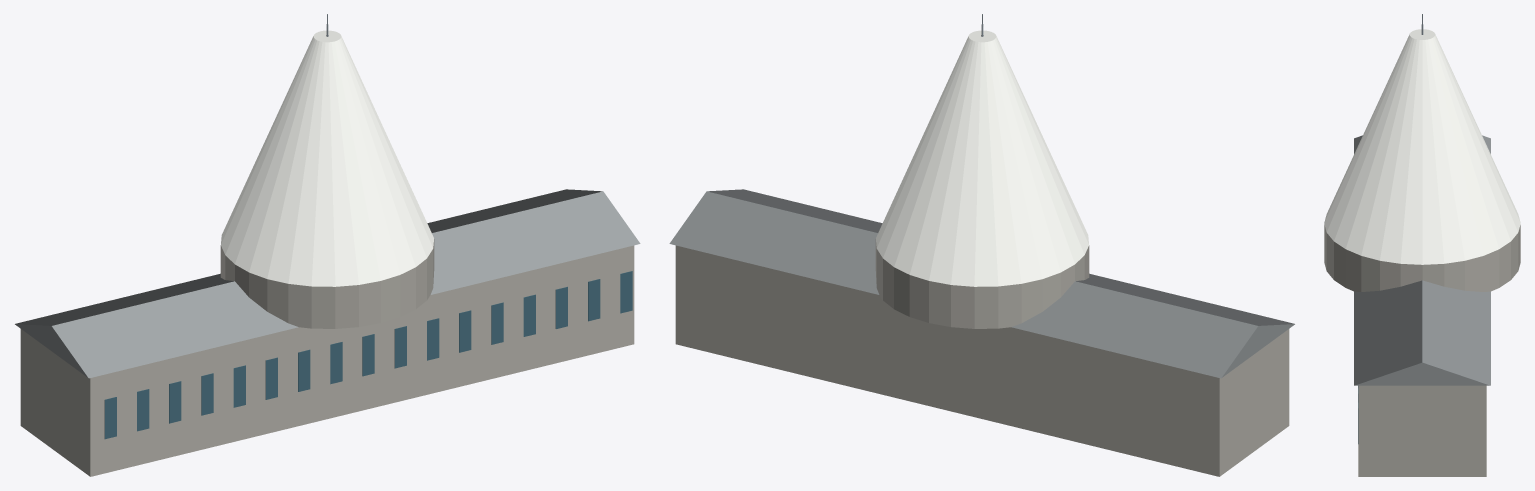
The model's file is source.glb.
3 renders of one model, left to right at view 1: azimuth 30°, elevation 25°; view 2: azimuth 150°, elevation 25°; view 3: azimuth 270°, elevation 25°, orthographic. The views are drawn at different scales.
Parts seen in each view (by area): view 1: worldgen; view 2: worldgen; view 3: worldgen.
Part boxes in pixels (x1,y1,x2,y2): worldgen: (15, 14, 640, 476); worldgen: (669, 14, 1294, 476); worldgen: (1324, 14, 1520, 476).
Bounding box in the file's own units: 137 × 88 × 46.
